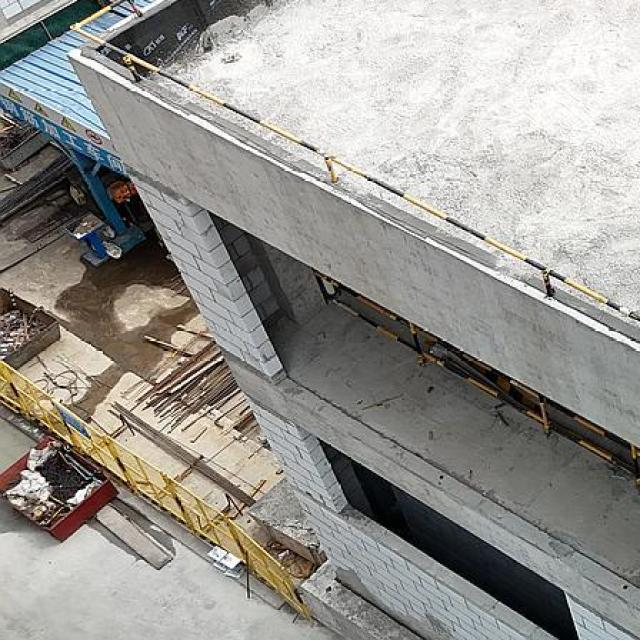edge_guardrail: (67, 0, 640, 326), (310, 258, 640, 489)
